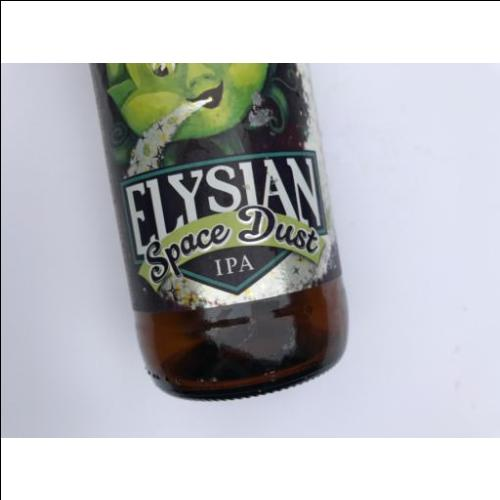glass: (92, 62, 347, 402)
